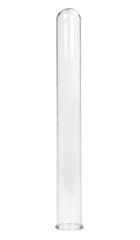Test tube: (47, 7, 86, 230)
